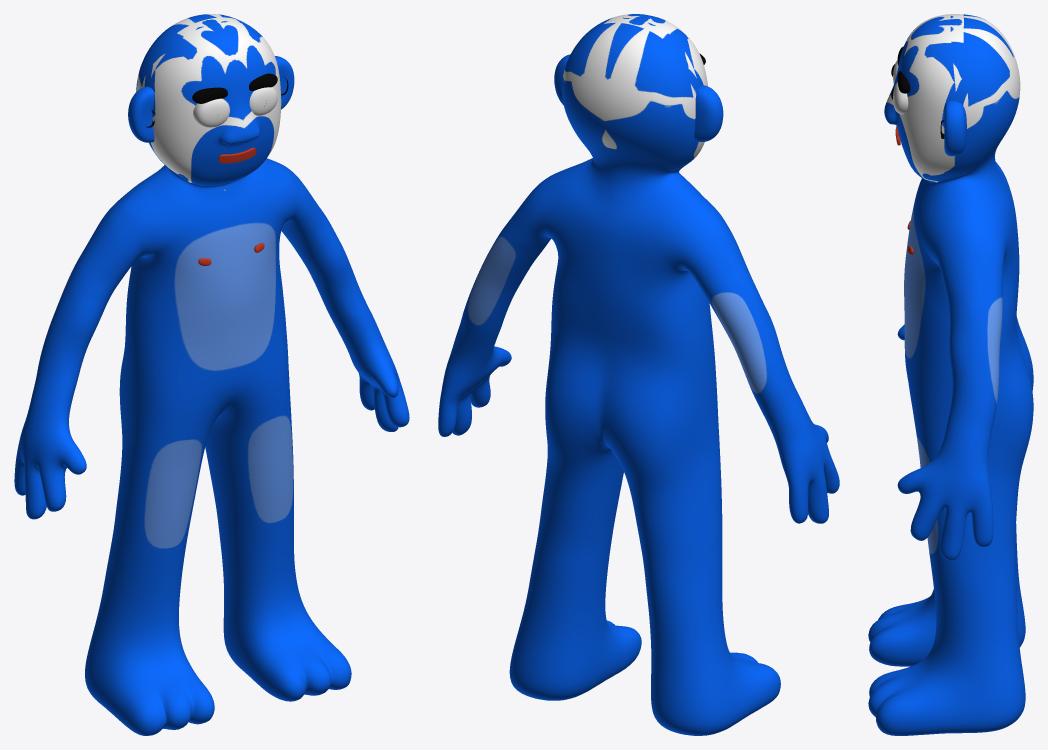
The model's file is creature_model.fbx.
3 views of the same model, side by side, from view 1: azimuth 30°, elevation 25°; view 2: azimuth 150°, elevation 25°; view 3: azimuth 270°, elevation 25° (orthographic).
Visible parts, largest first — view 1: Mesh.039, EAR_OUTER_R.004, EYEBALL_R.004, EYEBALL_L.004; view 2: Mesh.039, EAR_OUTER_R.004; view 3: Mesh.039, EAR_OUTER_L.004, EYEBALL_L.004.
Part boxes in pixels (box(x1,y1,x2,y2)): Mesh.039: box(14, 14, 409, 735); EAR_OUTER_R.004: box(128, 86, 154, 142); EYEBALL_R.004: box(193, 98, 229, 127); EYEBALL_L.004: box(249, 87, 277, 115); Mesh.039: box(438, 14, 839, 735); EAR_OUTER_R.004: box(694, 85, 723, 141); Mesh.039: box(868, 14, 1033, 735); EAR_OUTER_L.004: box(944, 101, 966, 156); EYEBALL_L.004: box(893, 82, 908, 114).
Bounding box in the file's own units: 37.11 × 63.83 × 14.36.
6 materials, 2 textured.
